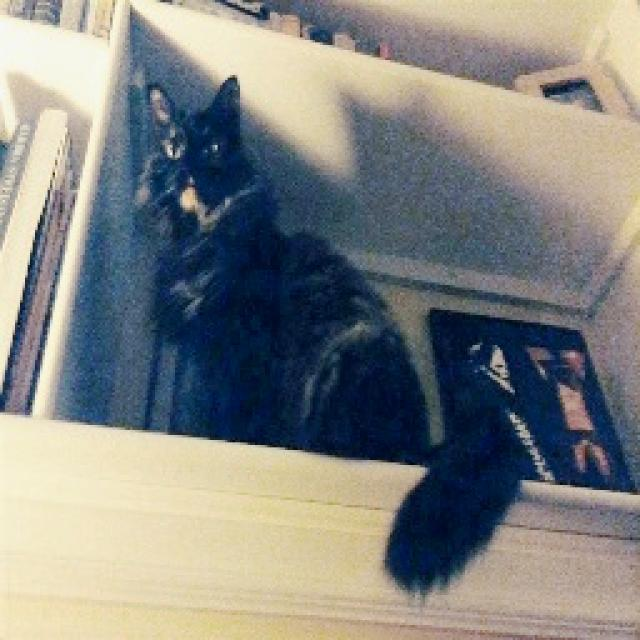cat: (134, 71, 533, 606)
